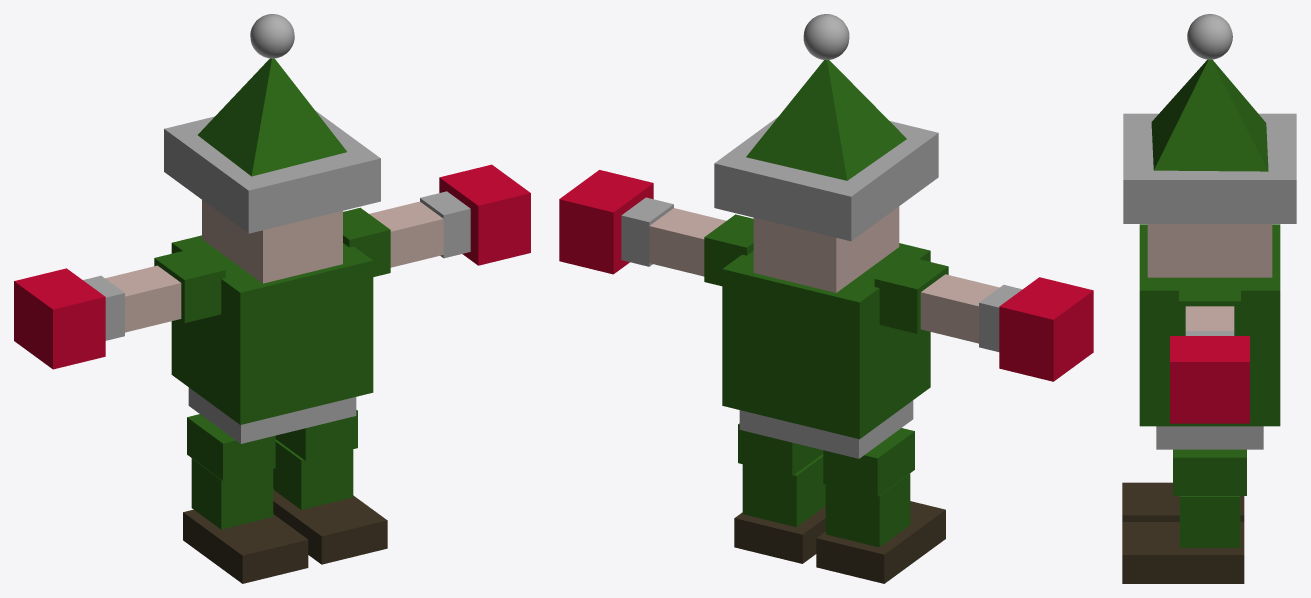
File: Elf_Melee_T.fbx
3 renders of one model, left to right at view 1: azimuth 30°, elevation 25°; view 2: azimuth 150°, elevation 25°; view 3: azimuth 270°, elevation 25°, orthographic. The views are drawn at different scales.
Parts seen in each view (by area): view 1: Chest, HatBrim, Hat, RightGlove, Face, LeftGlove, RightFoot, LeftFoot, RightShin, LeftShin, RightThigh, RightBicep (+8 smaller); view 2: Chest, HatBrim, Hat, RightGlove, Face, LeftGlove, RightFoot, RightShin, LeftShin, RightThigh, RightBicep, Pelvis (+8 smaller); view 3: HatBrim, Chest, Hat, LeftGlove, Face, LeftFoot, LeftThigh, LeftShin, Pelvis, RightFoot, LeftShoulderRotate, HatBall (+2 smaller).
Part boxes in pixels (x1,y1,x2,y2): Chest: (171,235,373,424); HatBrim: (164,110,380,233); Hat: (198,58,346,176); RightGlove: (14,268,105,369); Face: (202,200,342,283); LeftGlove: (439,164,530,265); RightFoot: (183,509,308,583); LeftFoot: (273,490,387,564); RightShin: (191,458,273,529); LeftShin: (273,439,353,509); RightThigh: (187,414,275,480); RightBicep: (105,265,181,332); Chest: (722,243,930,439); HatBrim: (714,116,938,241); Hat: (746,60,906,180); RightGlove: (999,277,1093,381); Face: (753,206,899,292); LeftGlove: (559,170,653,274); RightFoot: (816,501,945,583); RightShin: (825,474,910,547); LeftShin: (742,454,825,527); RightThigh: (823,428,914,496); RightBicep: (920,274,999,343); Pelvis: (739,400,913,458); HatBrim: (1123,113,1296,223); Chest: (1139,224,1280,426); Hat: (1151,59,1268,171); LeftGlove: (1170,336,1249,423); Face: (1147,224,1272,277); LeftFoot: (1122,522,1244,583); LeftThigh: (1173,449,1246,495); LeftShin: (1179,496,1240,547); Pelvis: (1156,426,1263,449); RightFoot: (1122,482,1244,521); LeftShoulderRotate: (1179,280,1240,335); HatBall: (1187,14,1232,59).
Bounding box in the file's own units: 11.59 × 12.03 × 3.57.
